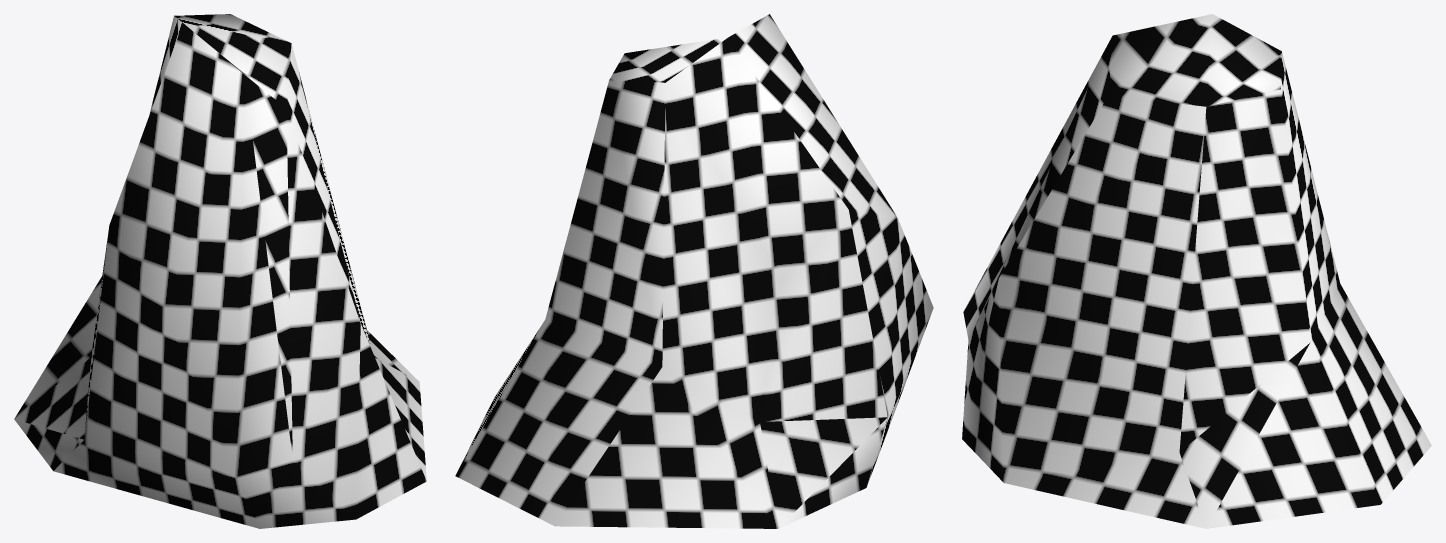
Rendered from nast18.dae.
3 renders of one model, left to right at view 1: azimuth 30°, elevation 25°; view 2: azimuth 150°, elevation 25°; view 3: azimuth 270°, elevation 25°, orthographic. The views are drawn at different scales.
Visible parts, largest first — view 1: stone02; view 2: stone02; view 3: stone02.
Part boxes in pixels (x1,y1,x2,y2): stone02: (14, 14, 426, 528); stone02: (455, 14, 933, 528); stone02: (962, 14, 1431, 528).
Bounding box in the file's own units: 0.7613 × 0.8664 × 0.8215.
1 material, 1 textured.
